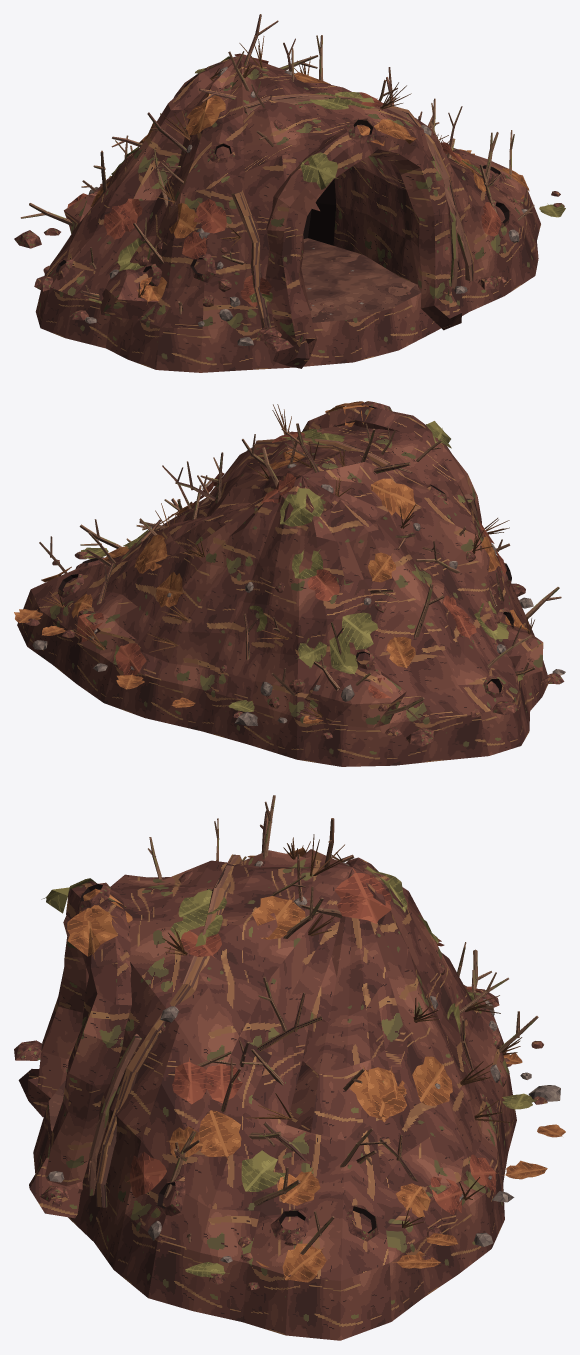
Rendered from SM_AN09_EntranceMound.fbx.
3 views of the same model, one above another, from view 1: azimuth 30°, elevation 25°; view 2: azimuth 150°, elevation 25°; view 3: azimuth 270°, elevation 25° (orthographic). The views are drawn at different scales.
Visible parts, largest first — view 1: AN09a_Earth, AN09a_Props, AN09a_Floor, AN09a_Root; view 2: AN09a_Earth, AN09a_Props, AN09a_Root; view 3: AN09a_Earth, AN09a_Props, AN09a_Root.
Boxes of the visible parts, x1,y1,x2,y2 form: AN09a_Earth: [35, 54, 540, 372]; AN09a_Props: [14, 14, 565, 351]; AN09a_Floor: [301, 238, 421, 322]; AN09a_Root: [231, 93, 473, 328]; AN09a_Earth: [17, 406, 548, 766]; AN09a_Props: [14, 401, 565, 746]; AN09a_Root: [254, 437, 477, 518]; AN09a_Earth: [18, 849, 516, 1340]; AN09a_Props: [14, 795, 565, 1289]; AN09a_Root: [88, 854, 243, 1207].
Size of the model in its own units: 10.82 by 5.44 by 7.85.
